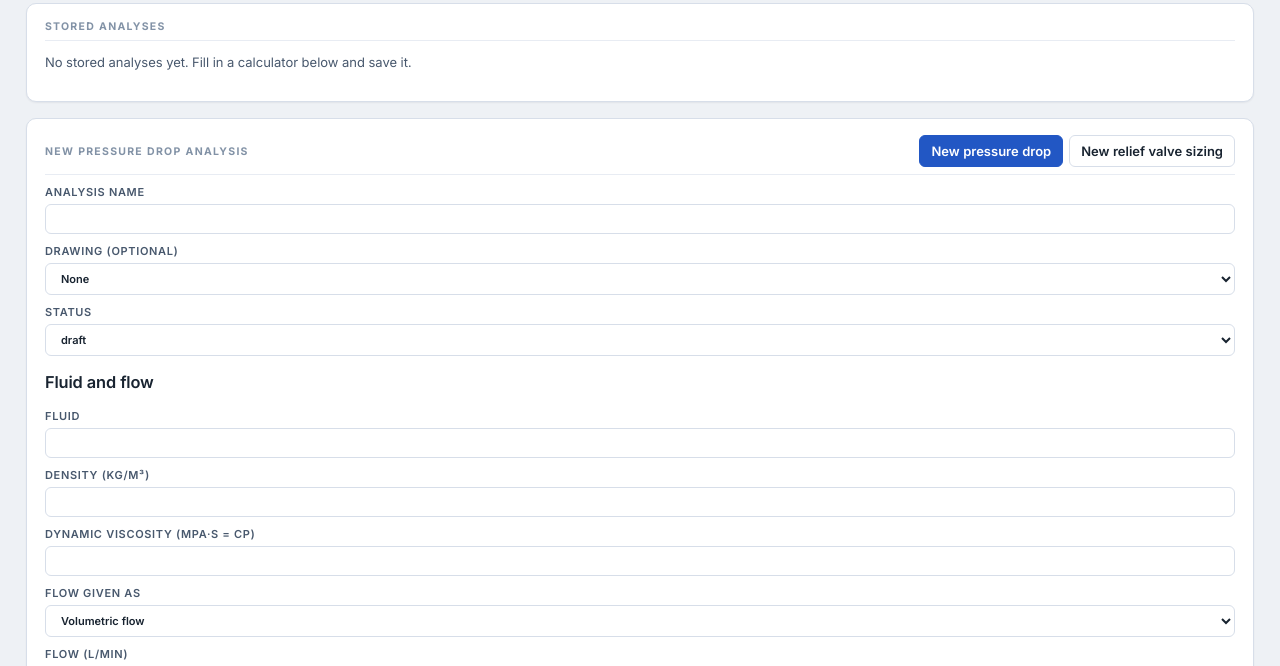
Scenario: AnalysisPage › shows the server's message when the inputs cannot be computed
Type "Bad" into the field labelled "Analysis name" at (640,219), box [45,204,1235,234]
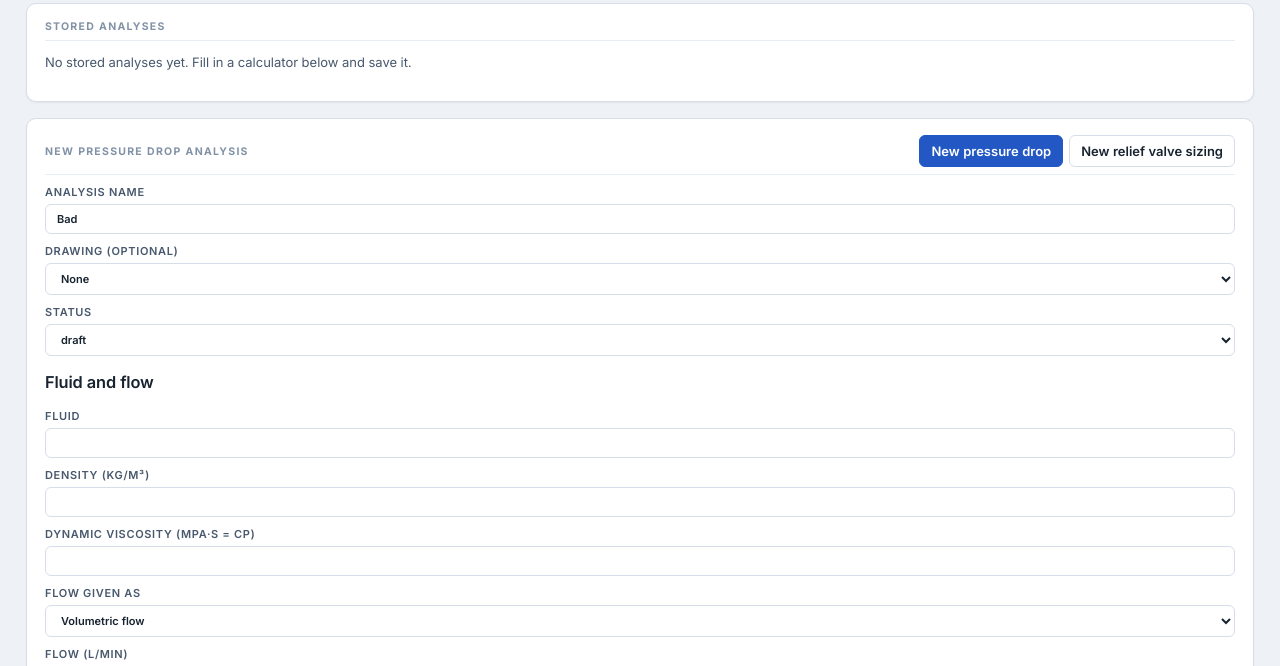
Type "998.2" into the field labelled "Density (kg/m³)" at (640,502), box [45,487,1235,517]
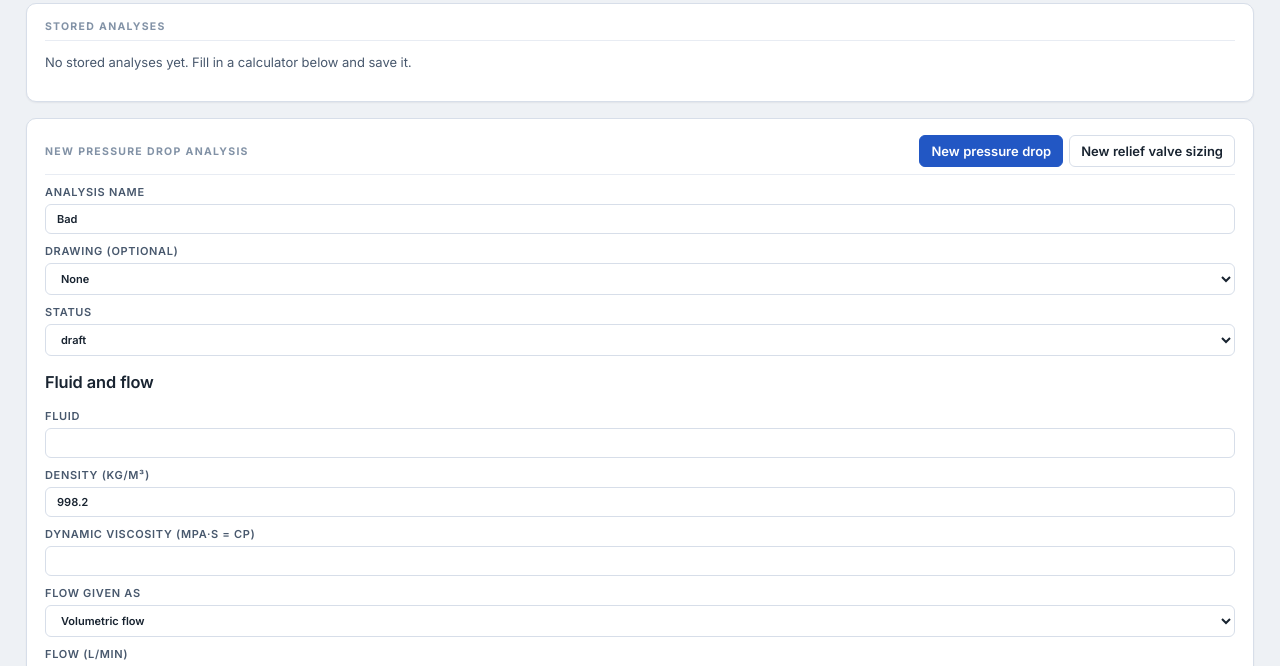
Type "1.002" into the field labelled "Dynamic viscosity (mPa·s = cP)" at (640,561), box [45,546,1235,576]
(page scrolled)
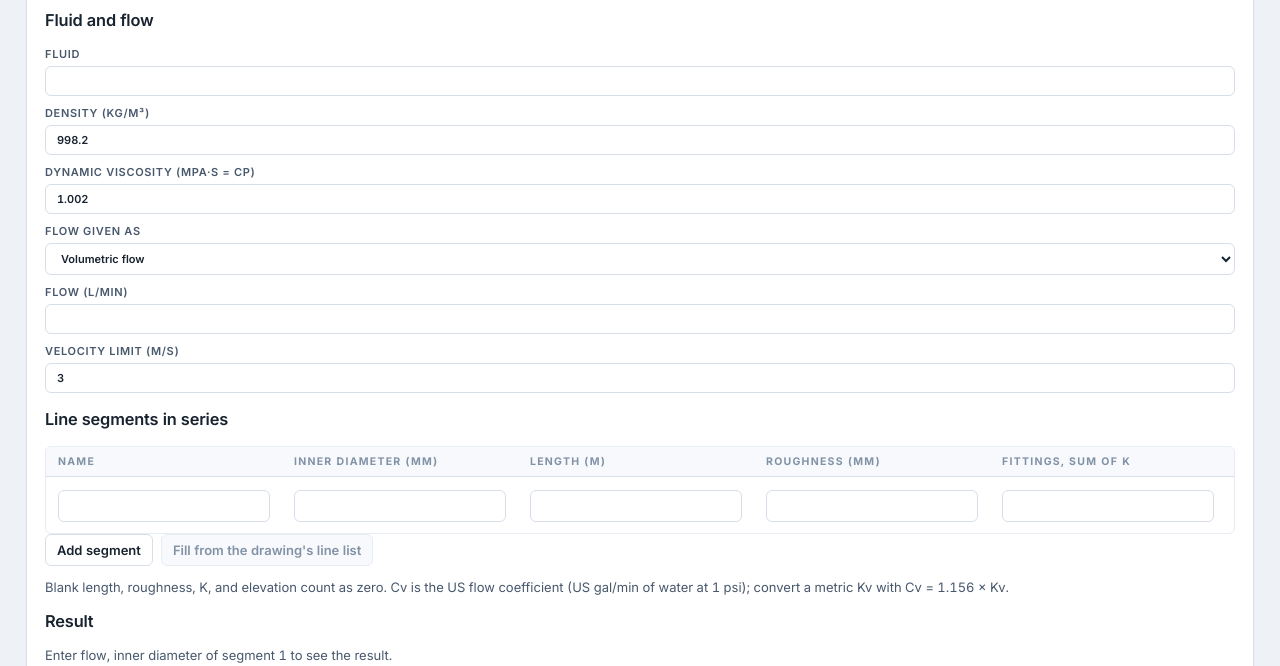
Type "60" into the field labelled "Flow (L/min)" at (640,319), box [45,304,1235,334]
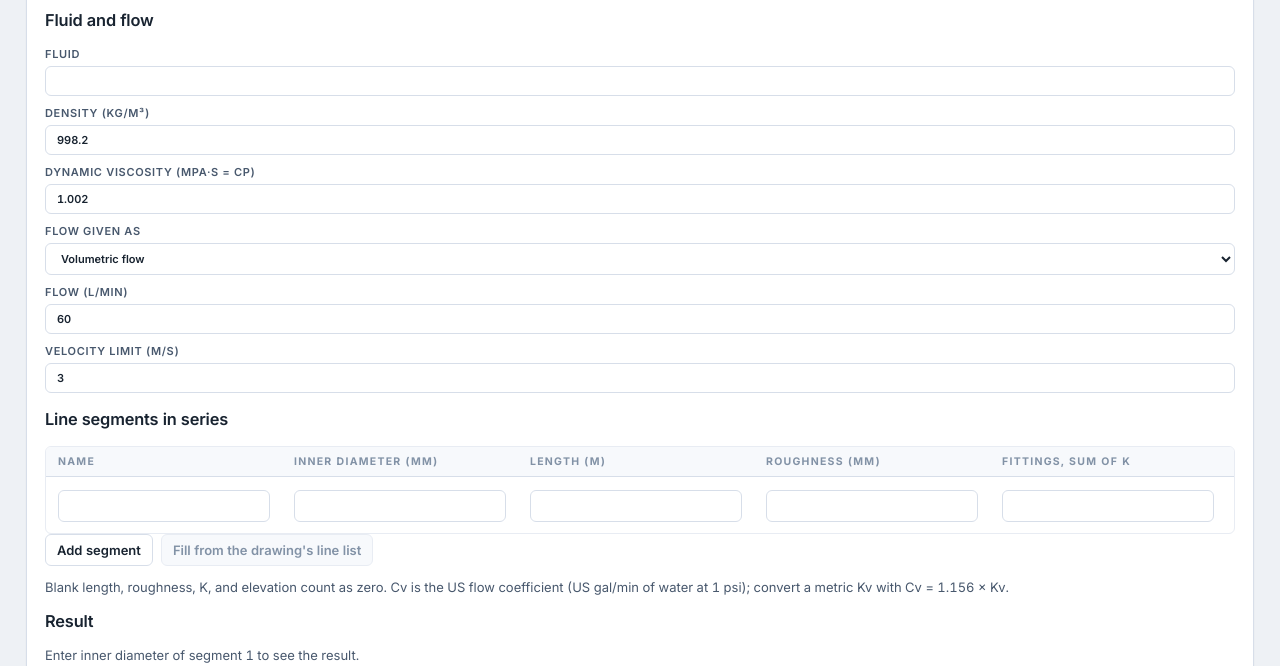
Type "0" into the field named "Inner diameter, segment 1" at (400,506), box [294,490,506,522]
(page scrolled)
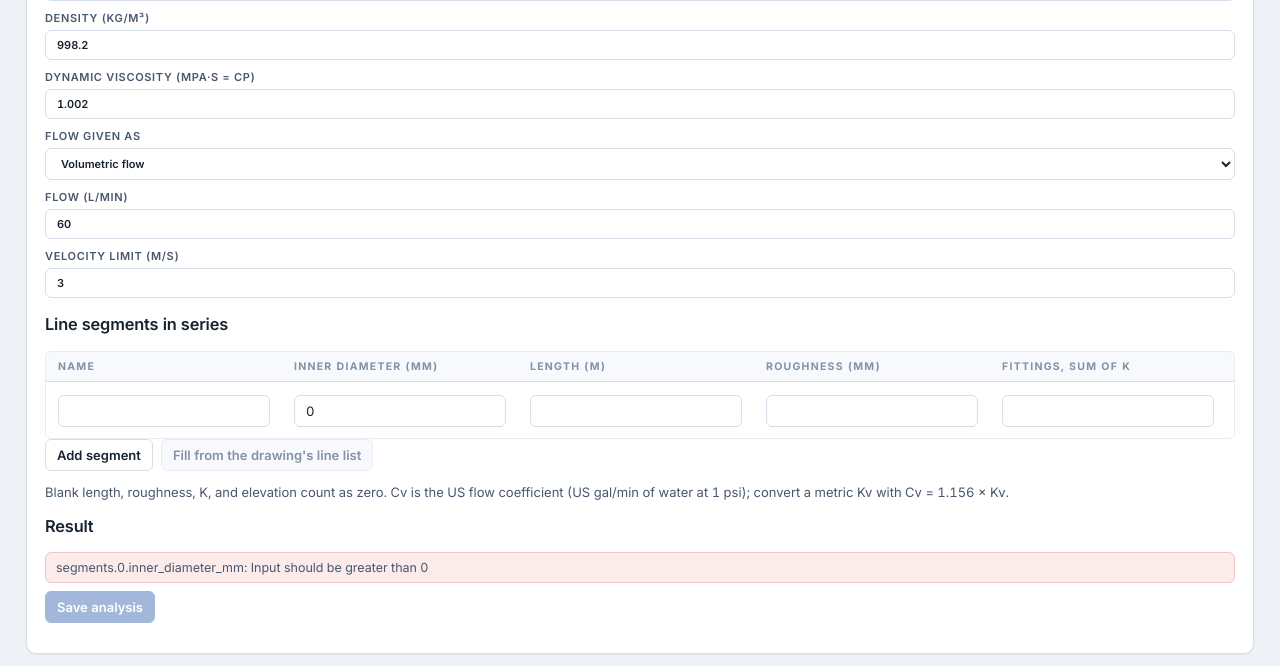
Expected: the button "Save analysis" is disabled, [45,591,155,623]
Expected: the text "segments.0.inner_diameter_mm: Input should be greater than 0" is shown, [45,552,1235,583]
